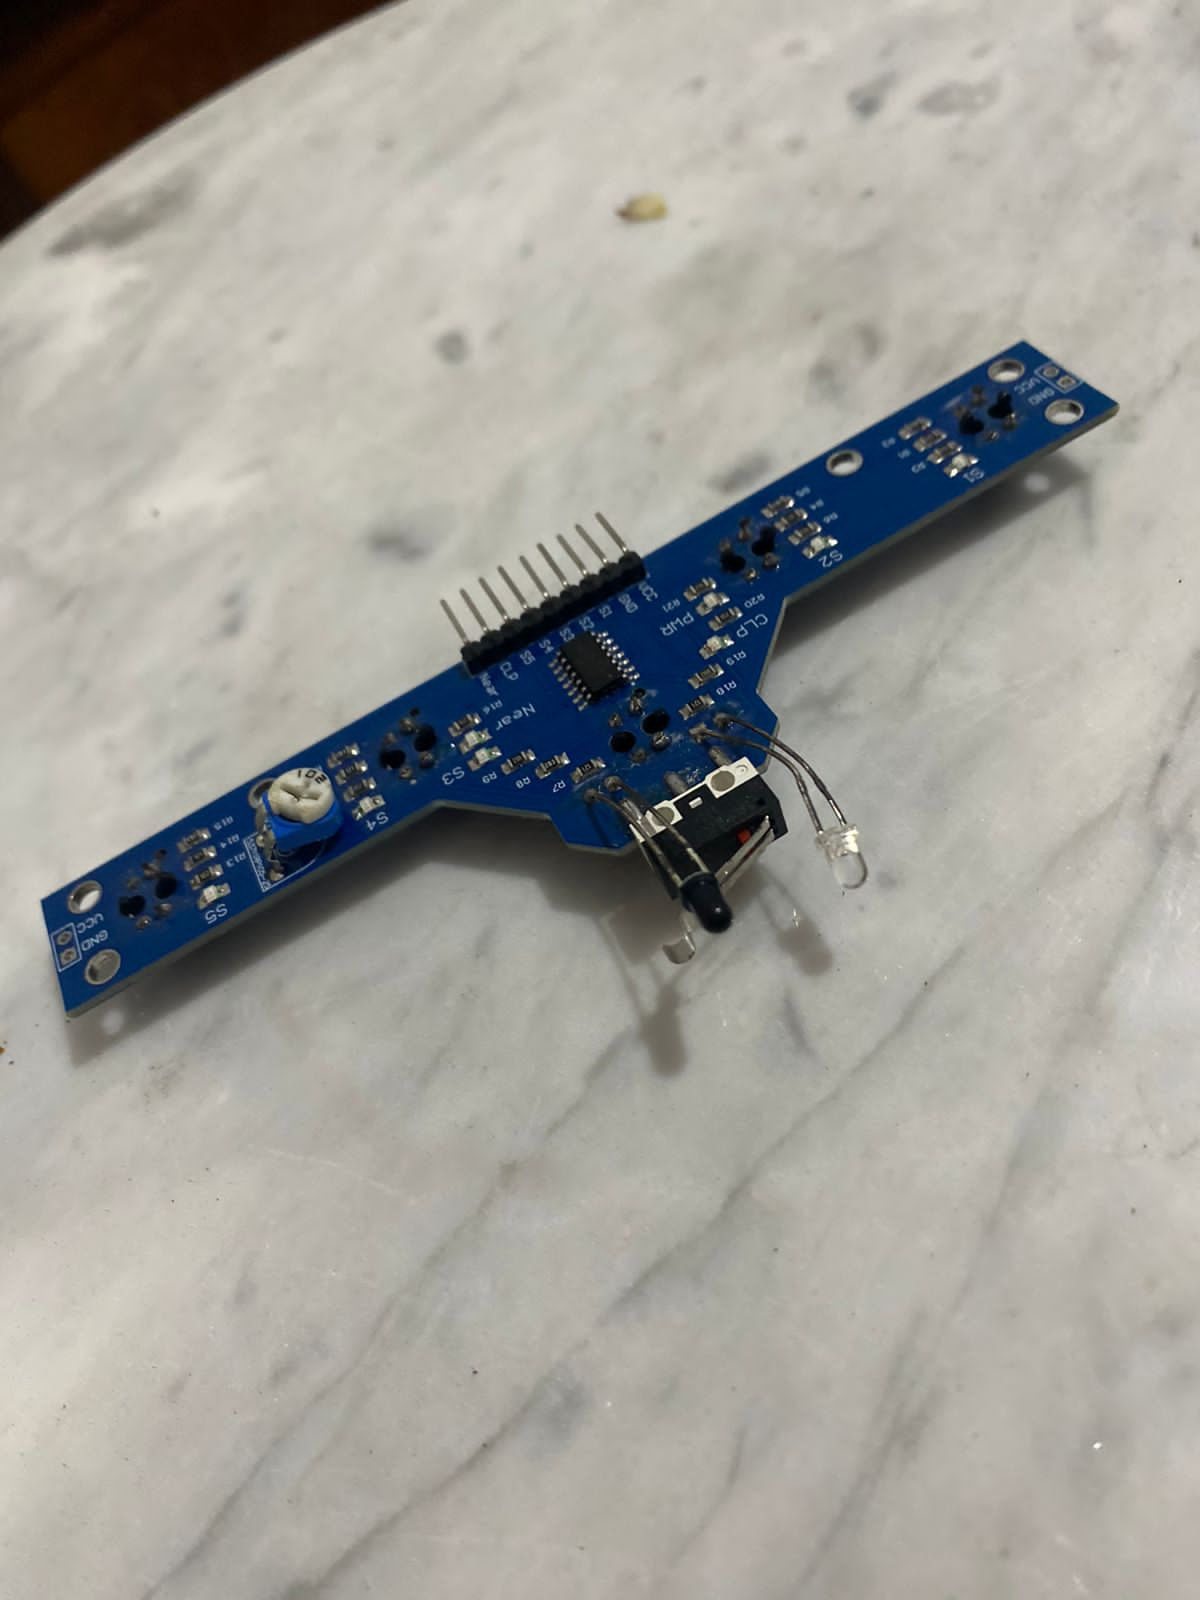Capteur-IR-5 Voies: (40, 343, 1139, 1026)
